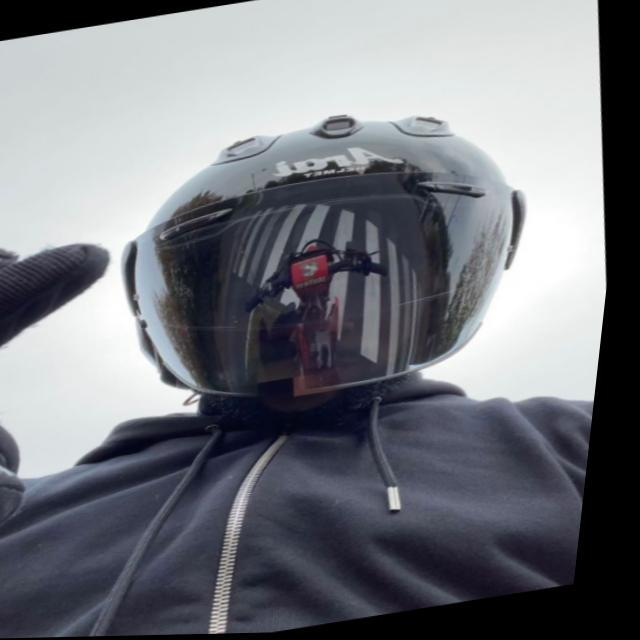Helmet: (115, 108, 530, 414)
